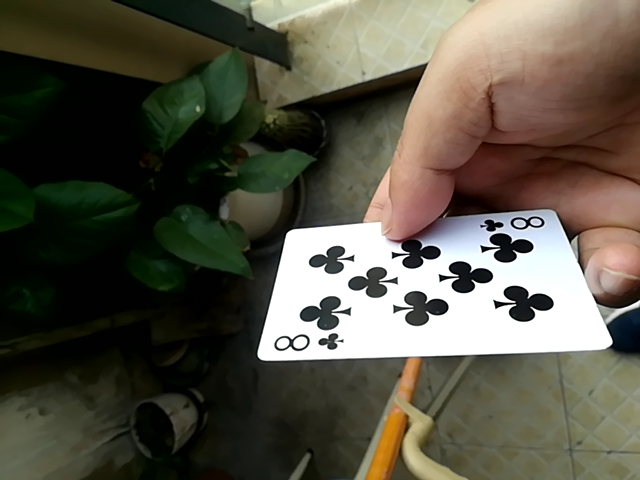mh 8: (255, 207, 622, 360)
